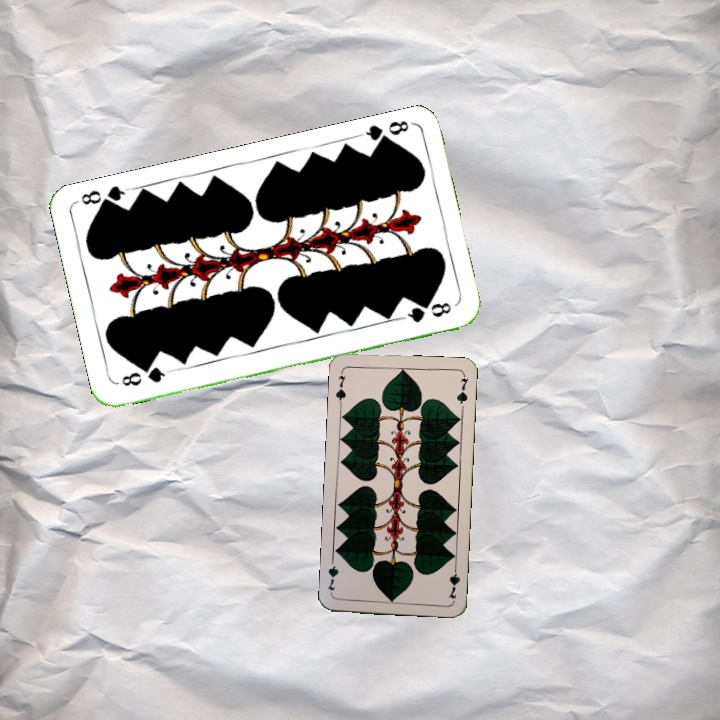G7: (444, 561, 462, 601), (331, 367, 349, 407)
G8: (355, 116, 414, 150), (117, 363, 173, 389)
